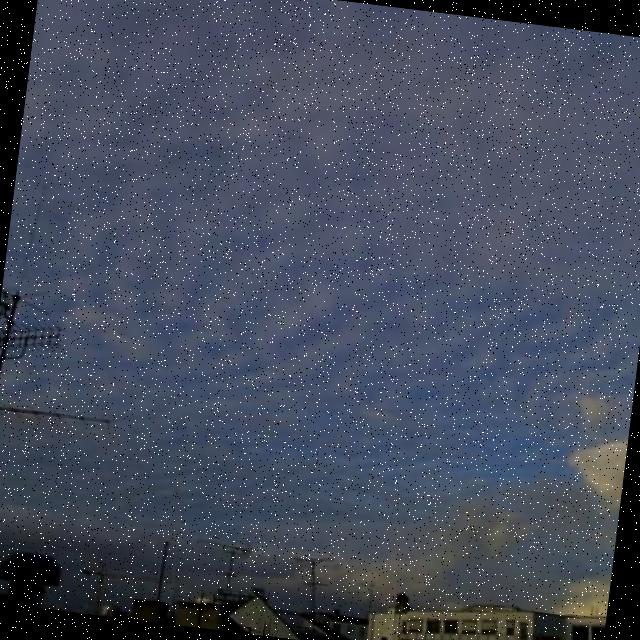Ac: (1, 1, 640, 404)
